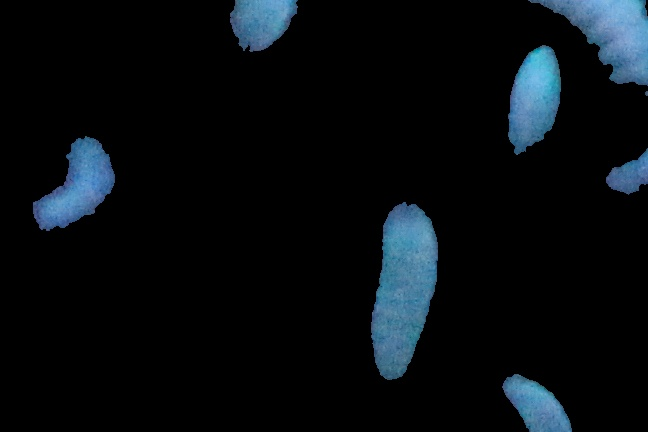larvae: (370, 201, 440, 382), (34, 133, 116, 240), (503, 44, 569, 153), (225, 1, 300, 57)
